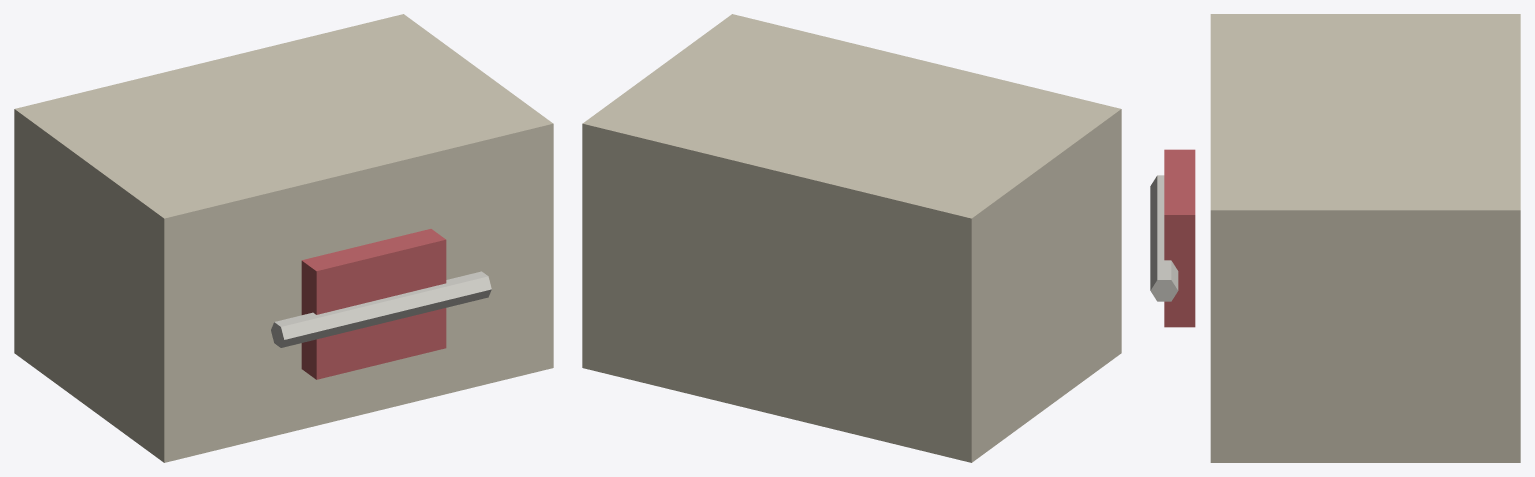
Rendered from suture_kit.glb.
The picture shows the model from 3 angles, left to right: view 1: azimuth 30°, elevation 25°; view 2: azimuth 150°, elevation 25°; view 3: azimuth 270°, elevation 25°; orthographic projection. The views are drawn at different scales.
Visible parts, largest first — view 1: 00_case, 04_case_latch, 03_thread; view 2: 00_case; view 3: 00_case, 04_case_latch, 03_thread.
Boxes of the visible parts, x1,y1,x2,y2 form: 00_case: [14, 14, 553, 462]; 04_case_latch: [301, 229, 446, 379]; 03_thread: [271, 271, 491, 347]; 00_case: [582, 14, 1121, 462]; 00_case: [1210, 14, 1520, 462]; 04_case_latch: [1164, 149, 1195, 327]; 03_thread: [1150, 175, 1178, 301].
Size of the model in its own units: 0.3 by 0.1952 by 0.239.
